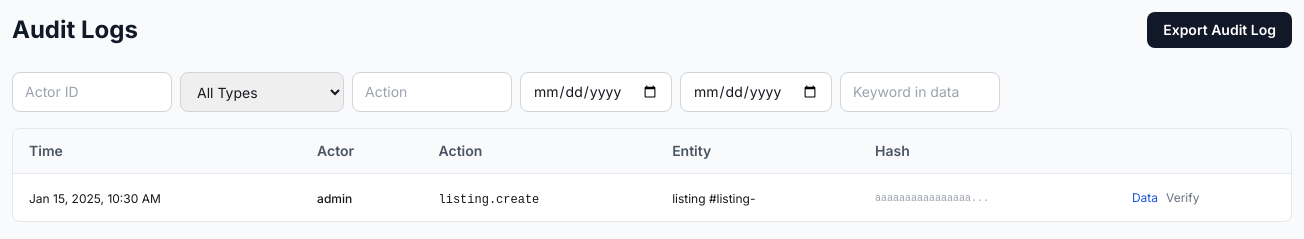
Test case: AdminAudit — Verify button › shows ✅ after a successful verify
The width and height of the screenshot is (1304, 239).
Click the button "Verify".
click(1183, 198)  # box [1166,190,1199,206]
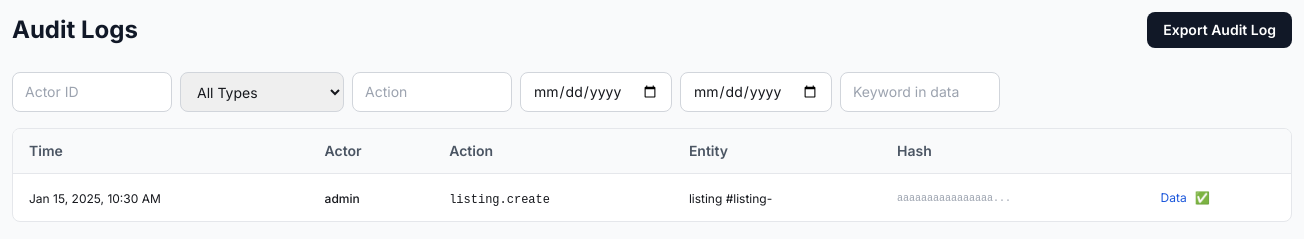
Expected: the button "✅" is shown, [1195,190,1210,206]
